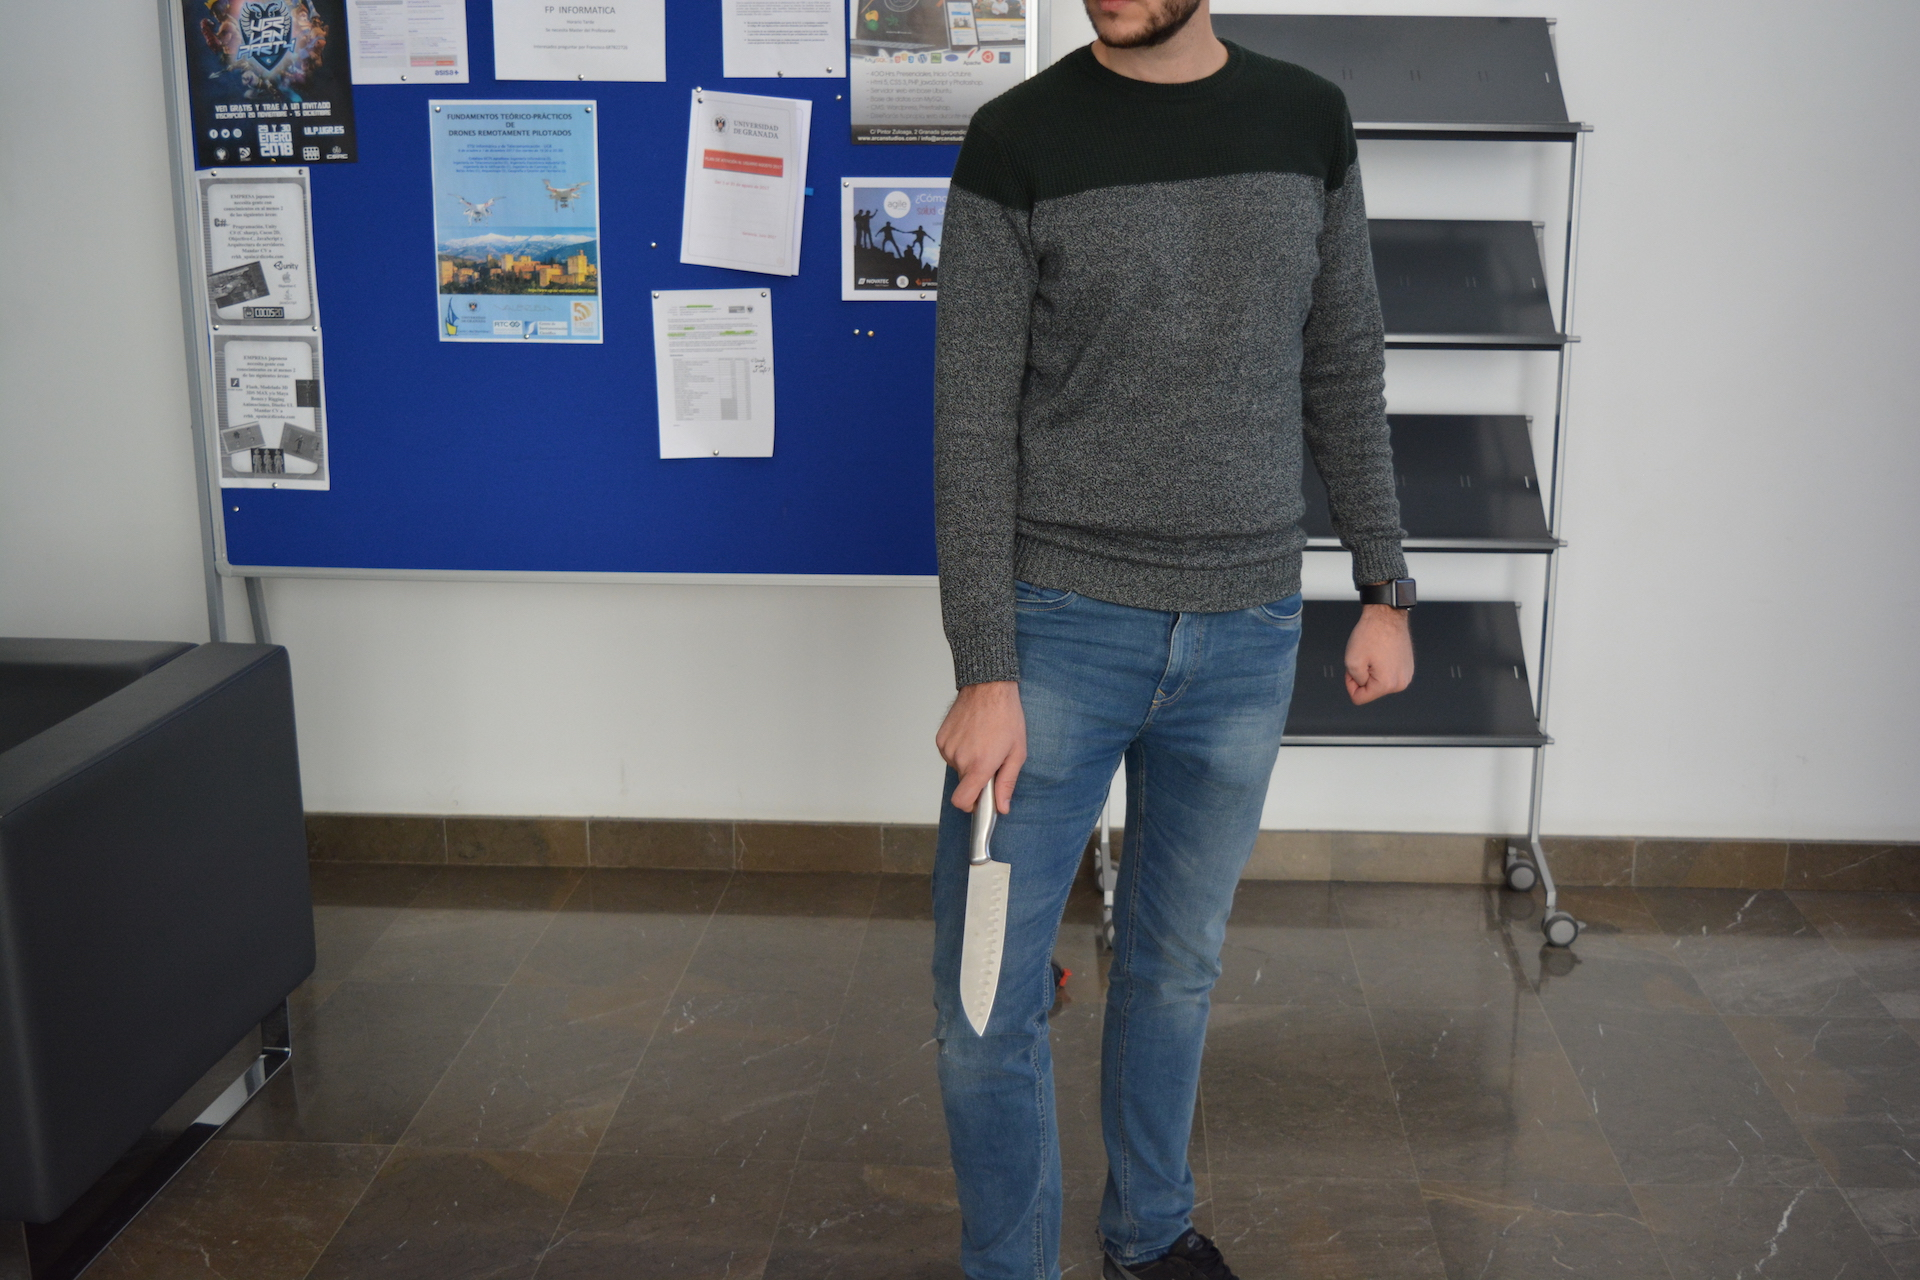knife: (949, 754, 1019, 1050)
